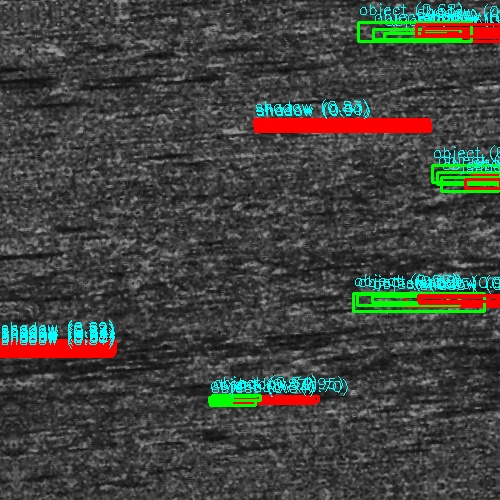rock: (353, 295, 458, 306), (364, 32, 469, 41), (439, 174, 500, 183), (206, 397, 259, 402), (239, 124, 270, 129)
shadow: (406, 295, 500, 306), (255, 124, 433, 129), (417, 32, 500, 41), (233, 397, 316, 402), (0, 349, 114, 352), (471, 174, 500, 183), (0, 235, 28, 240), (0, 59, 27, 64)
